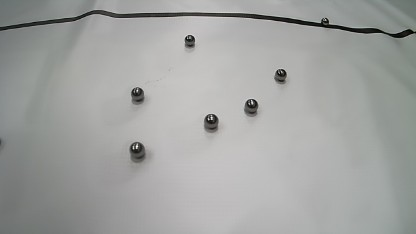ironball: (130, 142, 145, 159), (204, 113, 218, 129), (130, 87, 144, 102), (244, 98, 258, 113), (274, 68, 286, 81), (184, 34, 195, 46), (321, 17, 329, 26), (0, 137, 1, 146)
